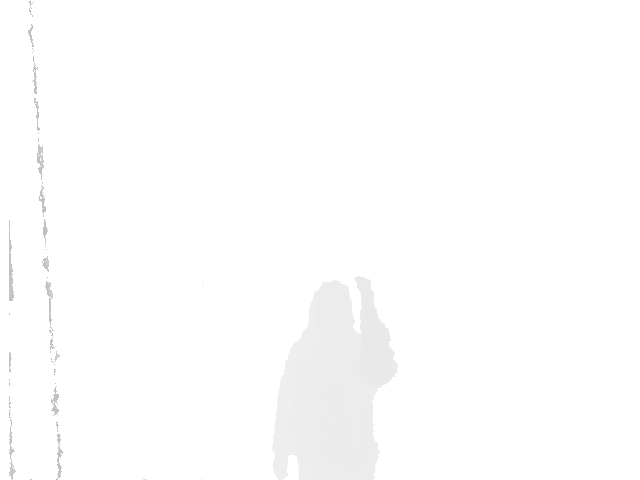hand: (355, 274, 377, 324)
head: (306, 278, 358, 334)
person: (271, 274, 396, 479)
